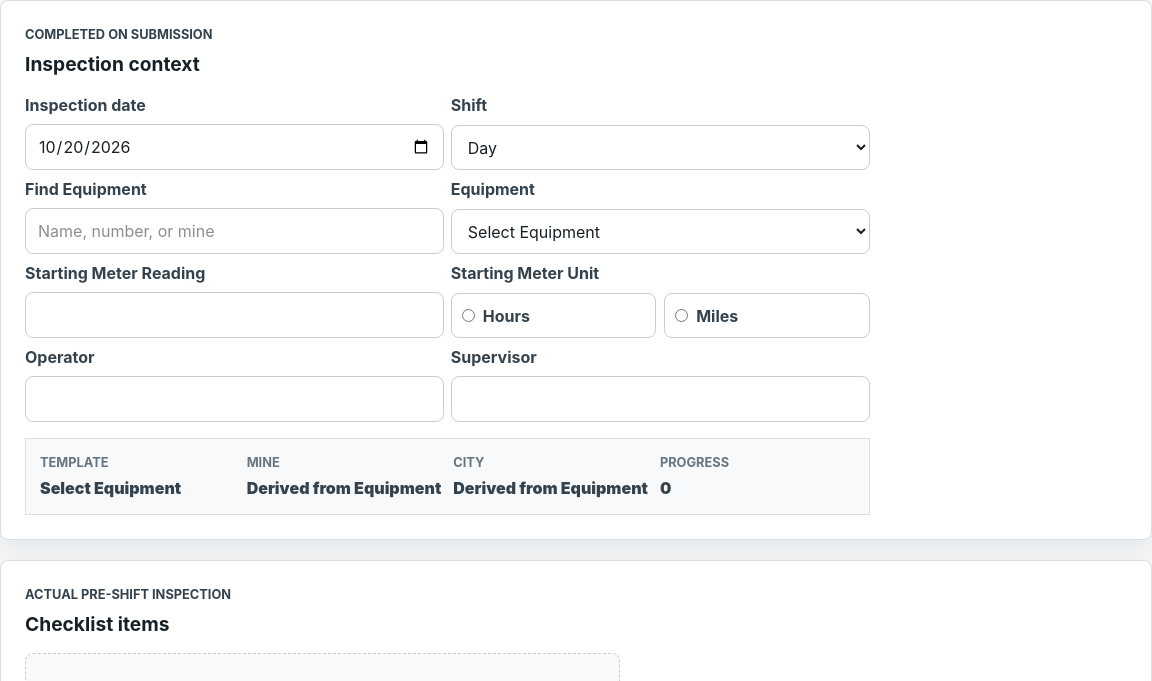
Test: OperationalSafetyChecklistForm › clears mismatch confirmation when Equipment changes
Step 1. Select "Dragline 1 #DL-1 (Mine A)" in the dropdown labelled "Equipment" → (660, 232), box [451, 209, 870, 254]
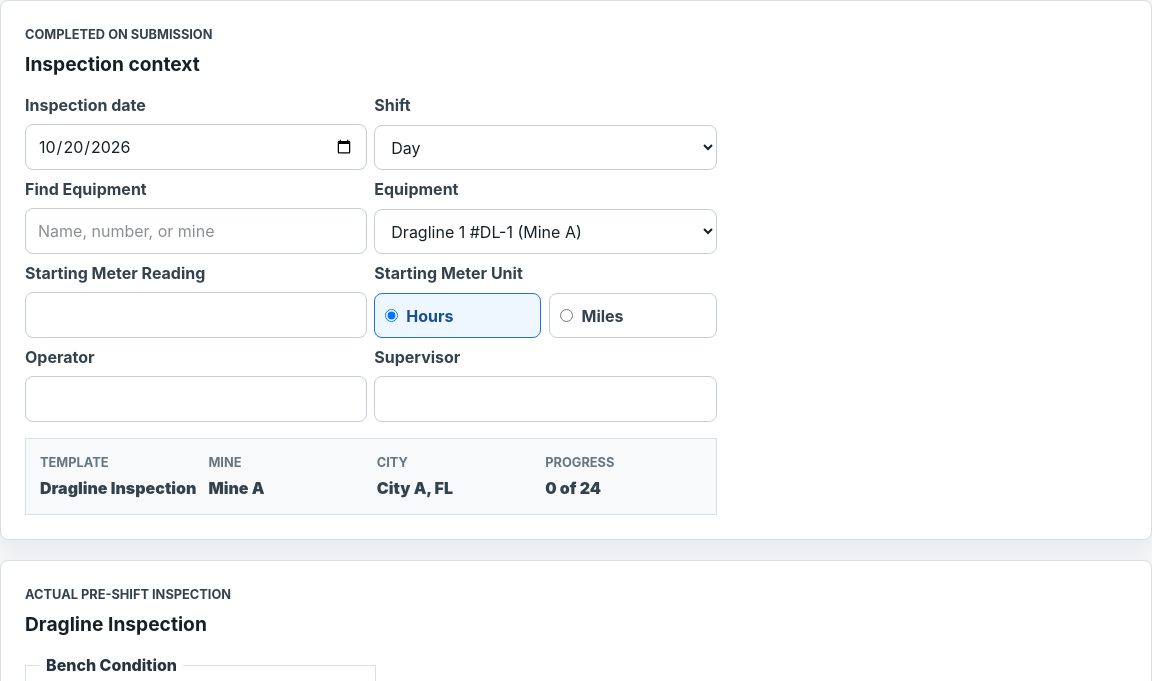
Step 2. Click the radio button labelled "Miles" → (567, 316), box [560, 309, 574, 322]
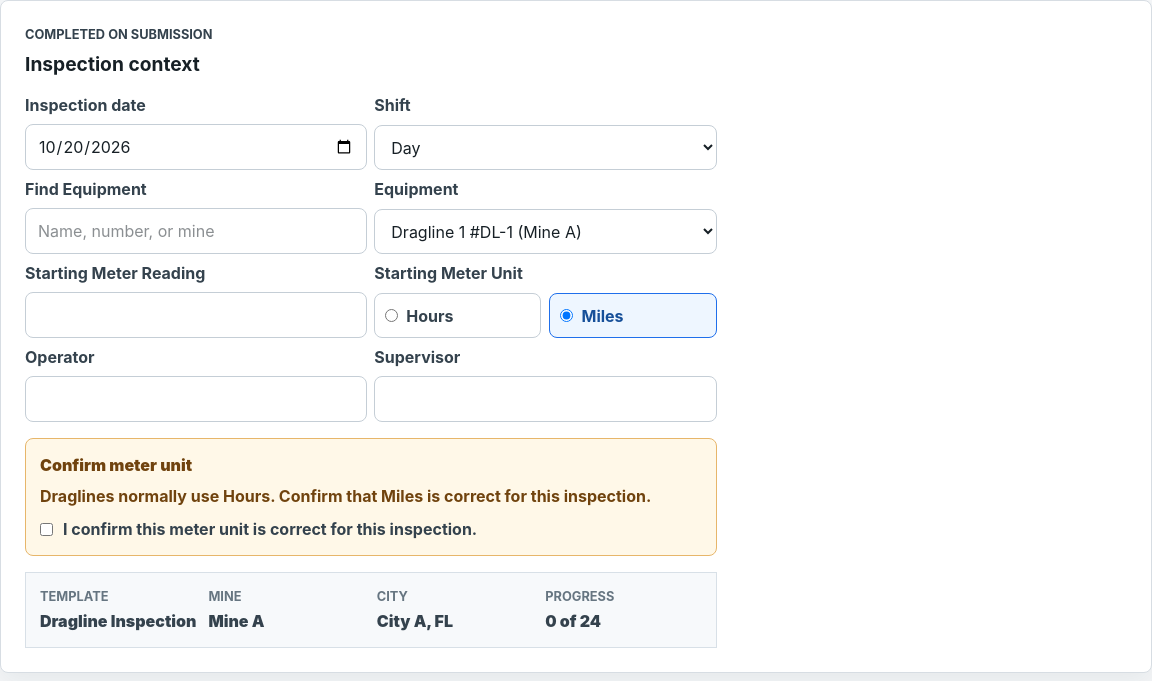
Step 3. Click the checkbox labelled "I confirm this meter unit is correct for this inspection." → (46, 529), box [40, 522, 53, 536]
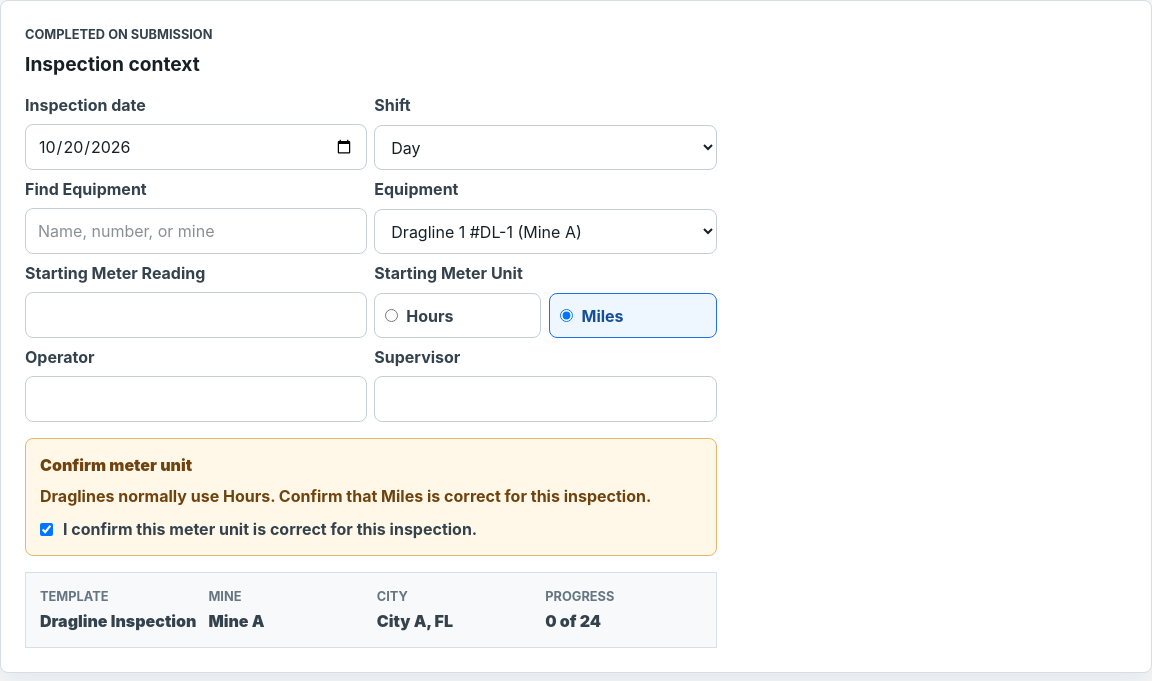
Step 4. Select "Truck 1 #WT-1 (Mine A)" in the dropdown labelled "Equipment" → (545, 232), box [374, 209, 717, 254]
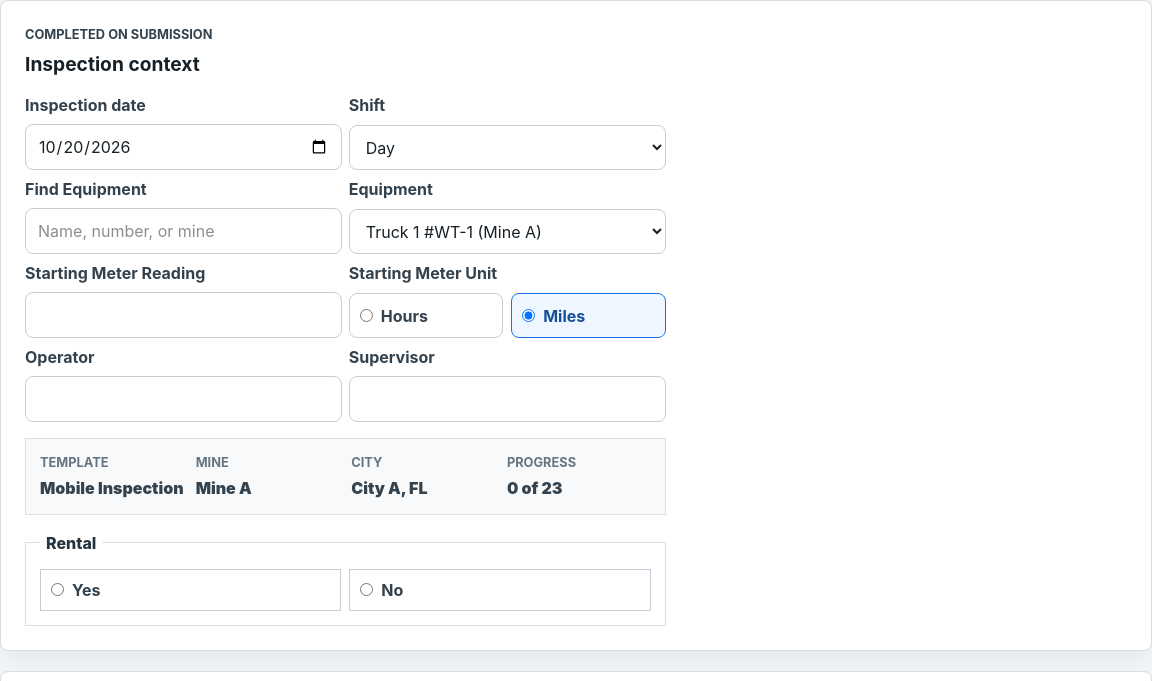
Expected: the radio button labelled "Miles" is checked, [522, 309, 535, 322]
Expected: the text "I confirm" is gone
